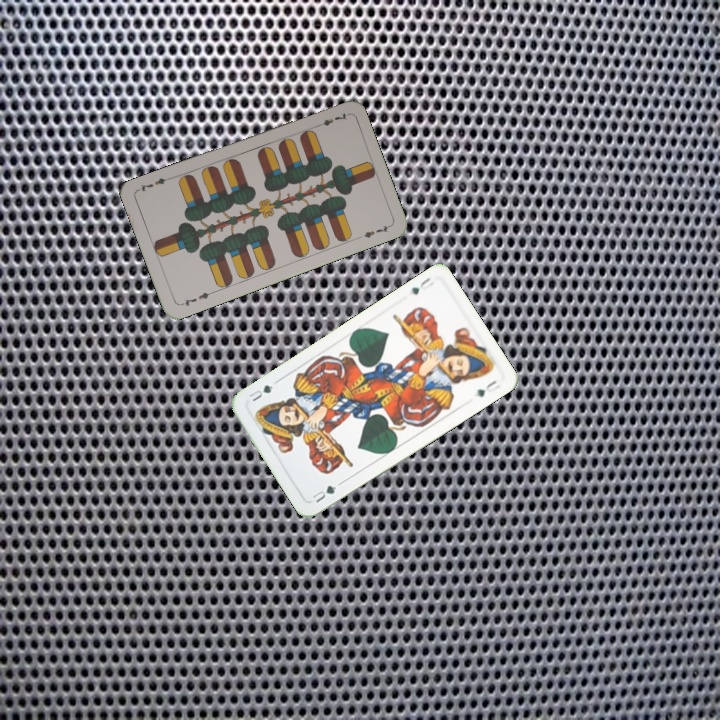E7: (311, 109, 350, 130), (177, 288, 216, 308)
GU: (308, 481, 339, 506), (406, 273, 437, 297)
